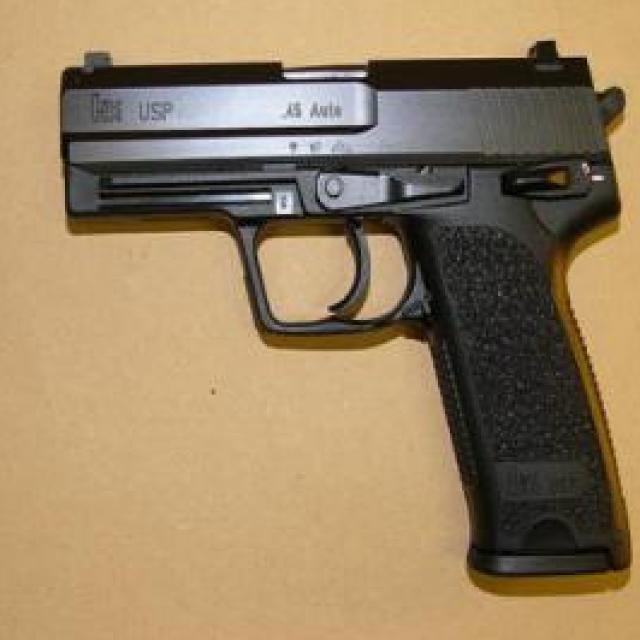pistol: (58, 39, 634, 576)
